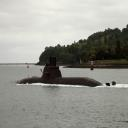submarine: (20, 66, 117, 87)
